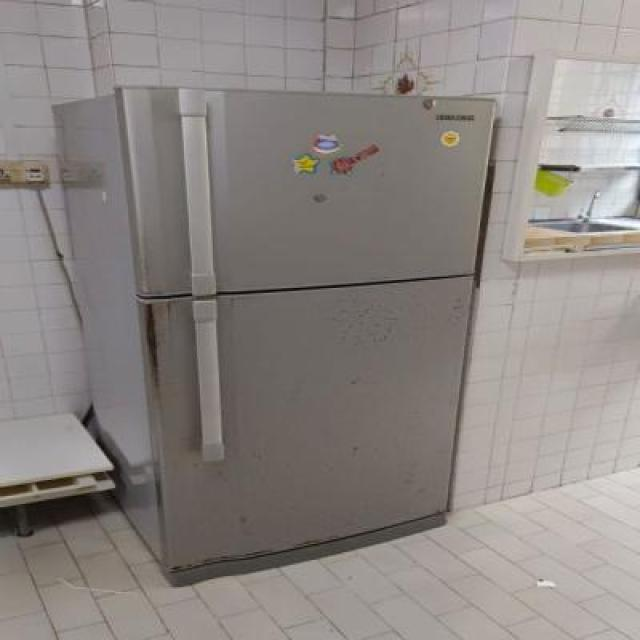refrigerator: (111, 84, 503, 583)
